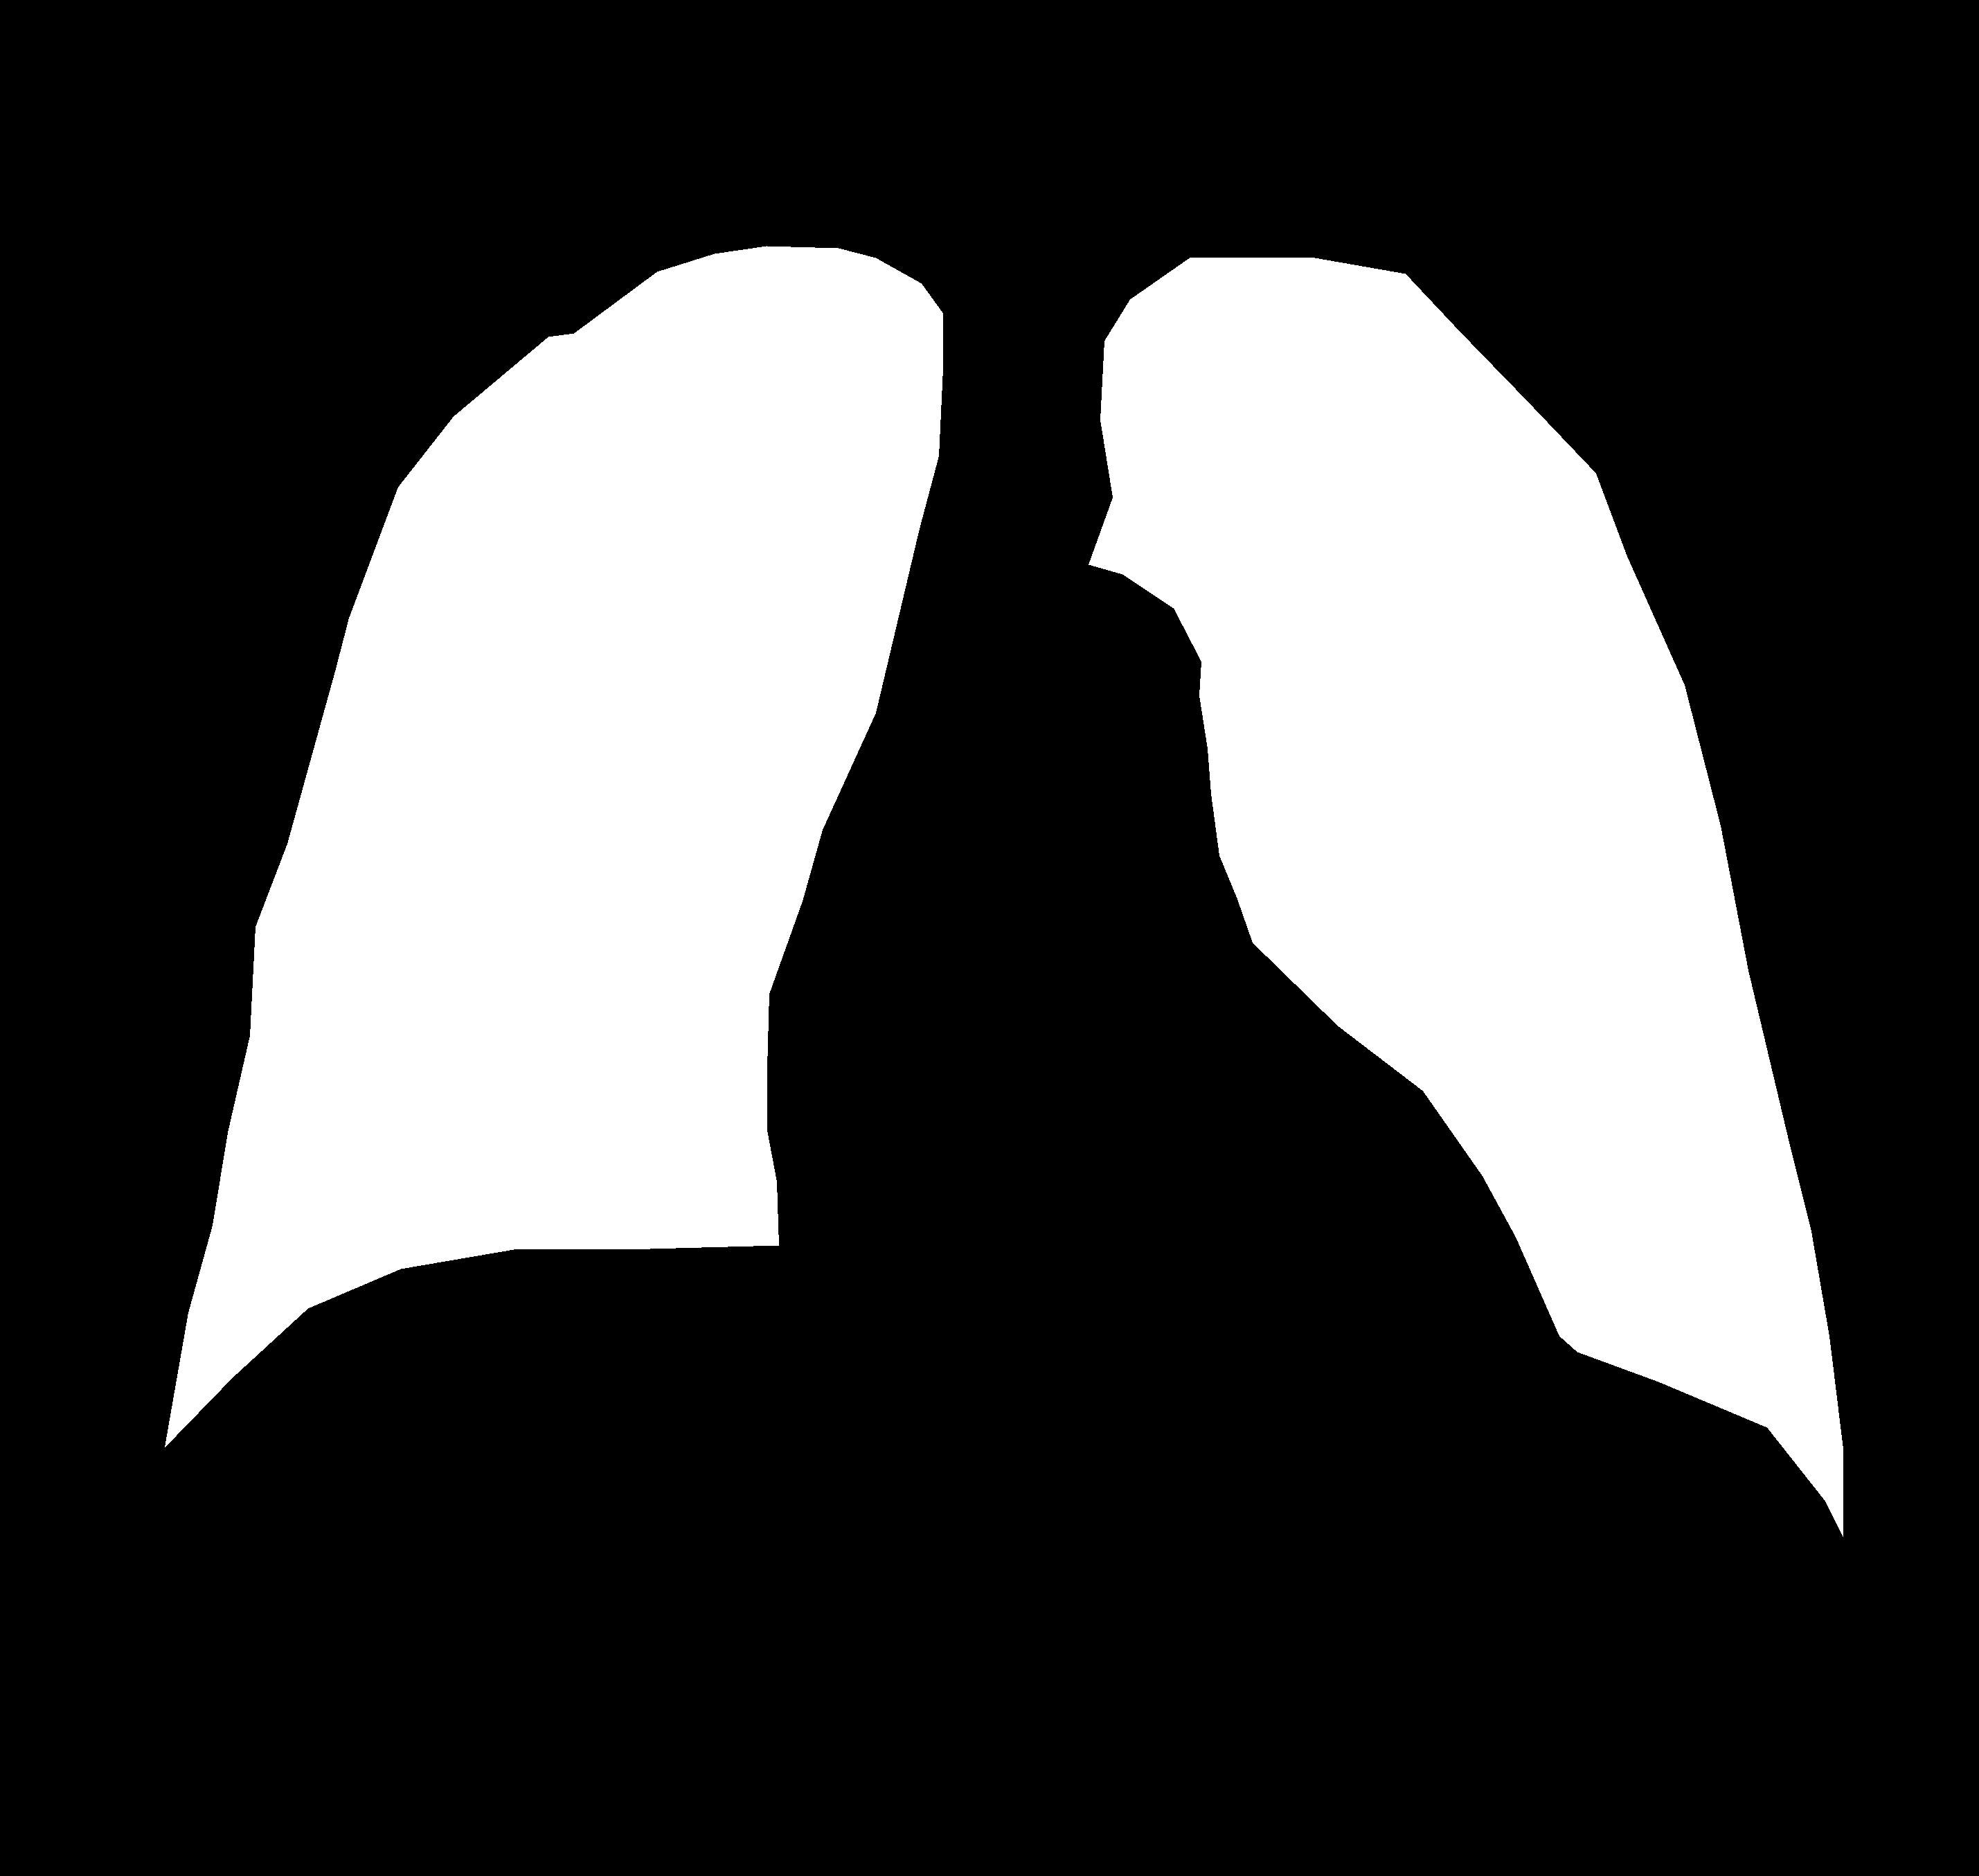heart: (765, 744, 1547, 1379)
left_lung: (166, 245, 943, 1446)
right_lung: (1089, 257, 1843, 1536)
